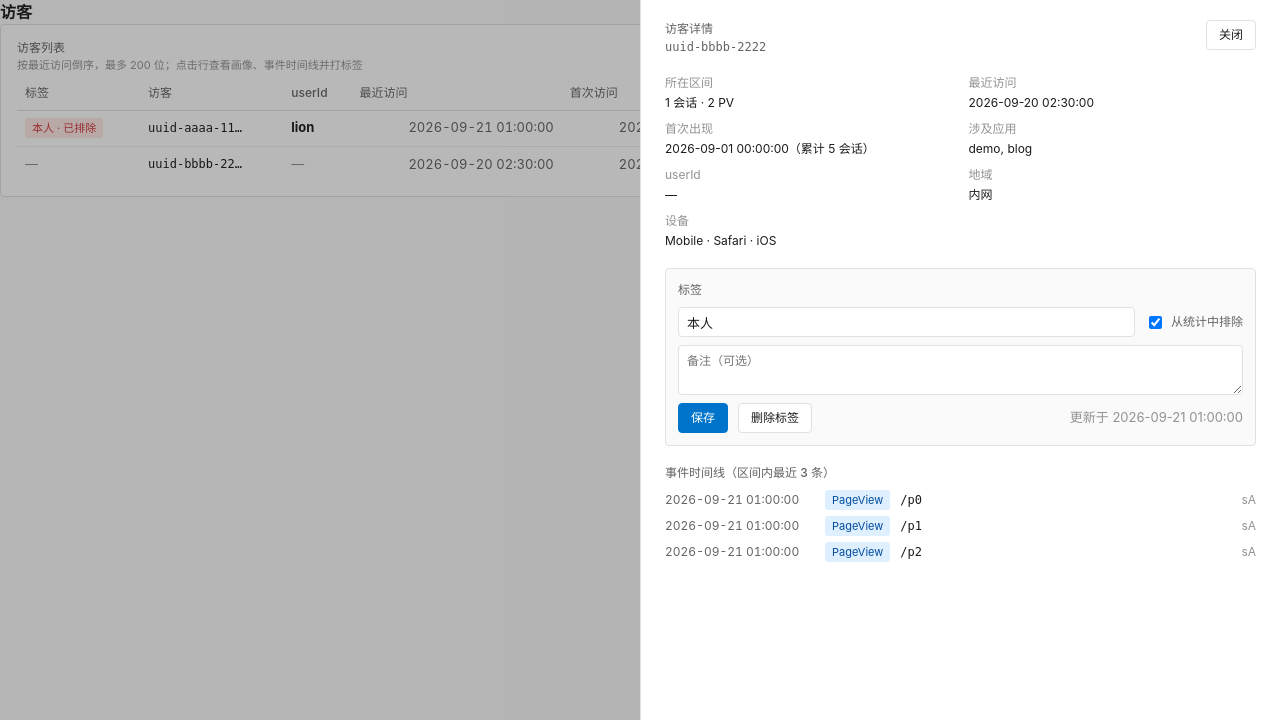
Test case: 访客与标签 › 已有标签时可删除
Click the button "删除标签" at (775, 418), box [738,403,812,433]
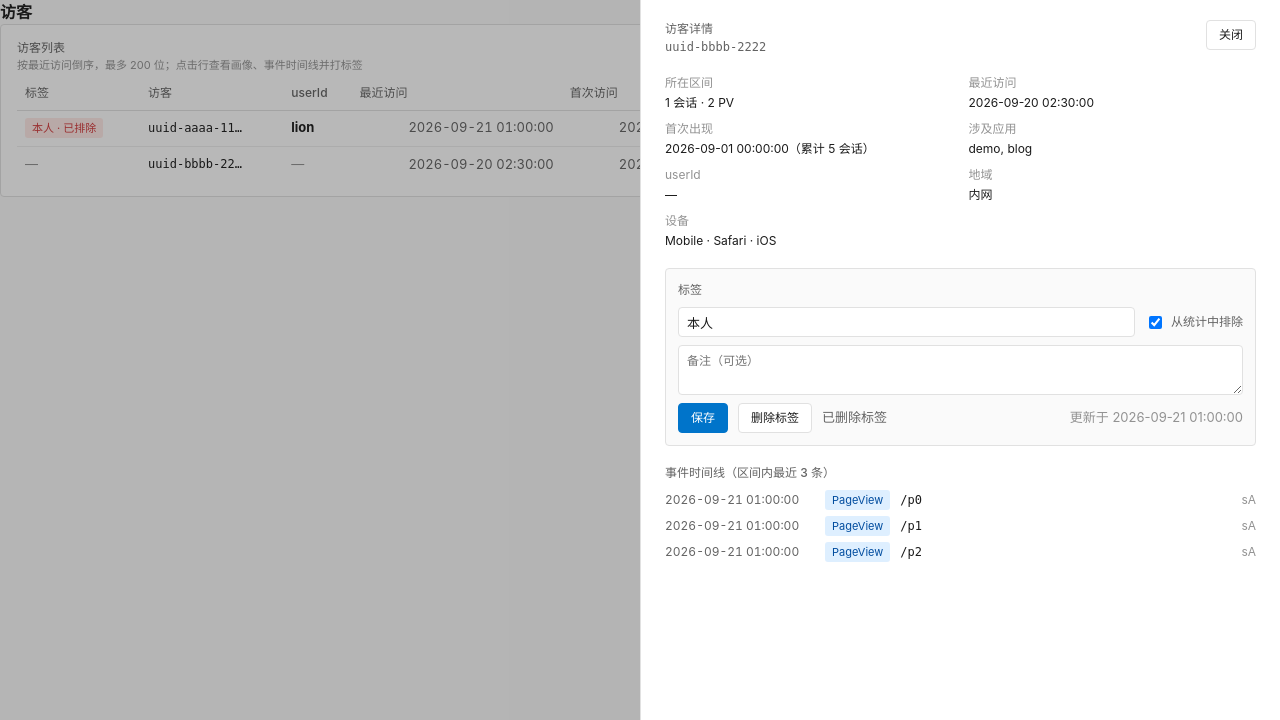
Now the text "已删除标签" is shown, box [822,408,887,428]
